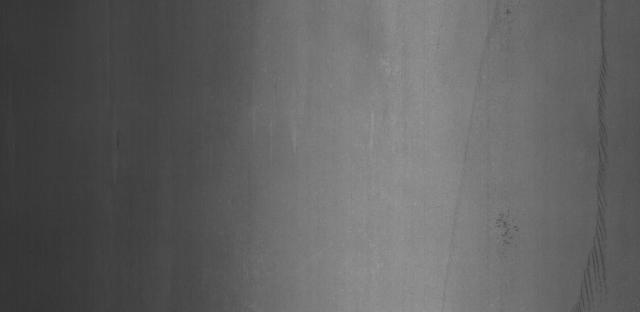water_spot: (570, 4, 624, 310), (488, 203, 529, 264)
